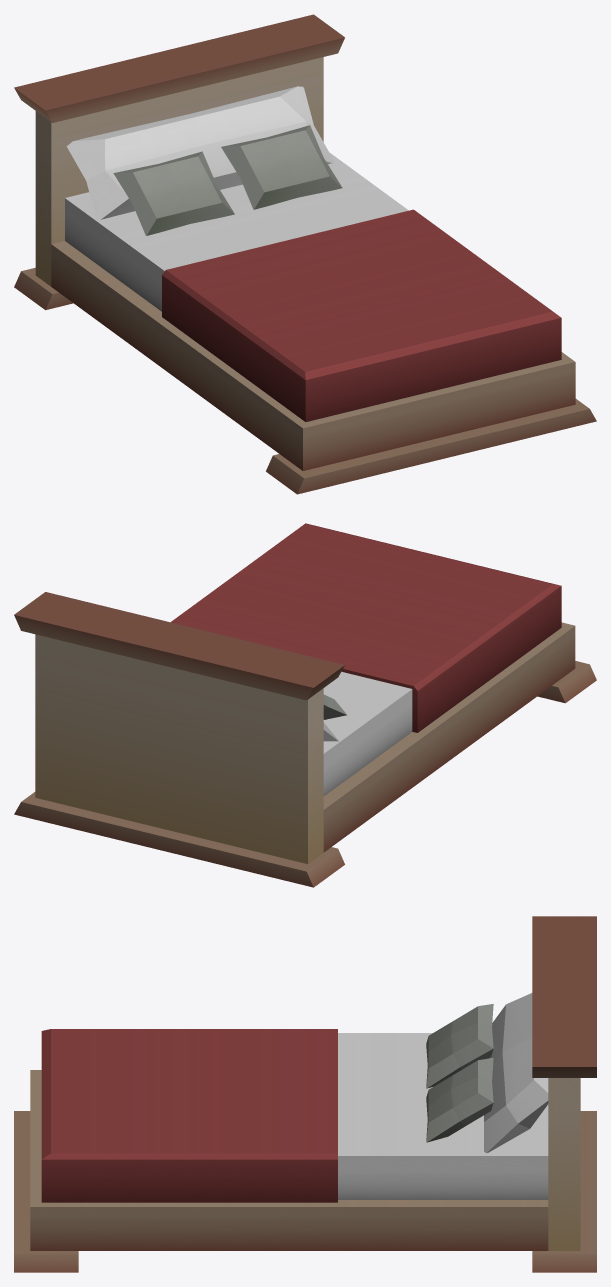
Rendered from Bed.glb.
3 views of the same model, one above another, from view 1: azimuth 30°, elevation 25°; view 2: azimuth 150°, elevation 25°; view 3: azimuth 270°, elevation 25° (orthographic). The views are drawn at different scales.
Parts seen in each view (by area): view 1: unnamed (×10); view 2: unnamed (×7); view 3: unnamed (×10).
Boxes of the visible parts, bbox=[...] form: unnamed (×10): bbox=[14, 14, 596, 494]; unnamed (×7): bbox=[14, 523, 596, 887]; unnamed (×10): bbox=[14, 916, 596, 1272].
Bounding box in the file's own units: 22 × 14 × 36.
Materials: 1 (1 with a texture image).
